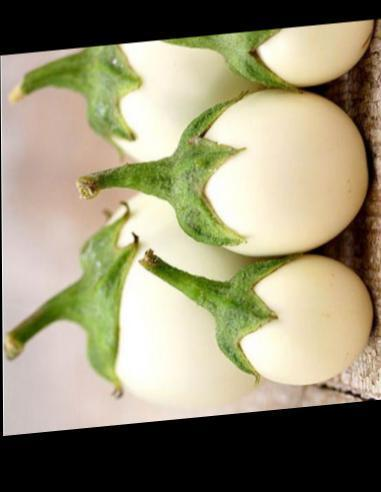eggplant: (29, 28, 375, 418)
